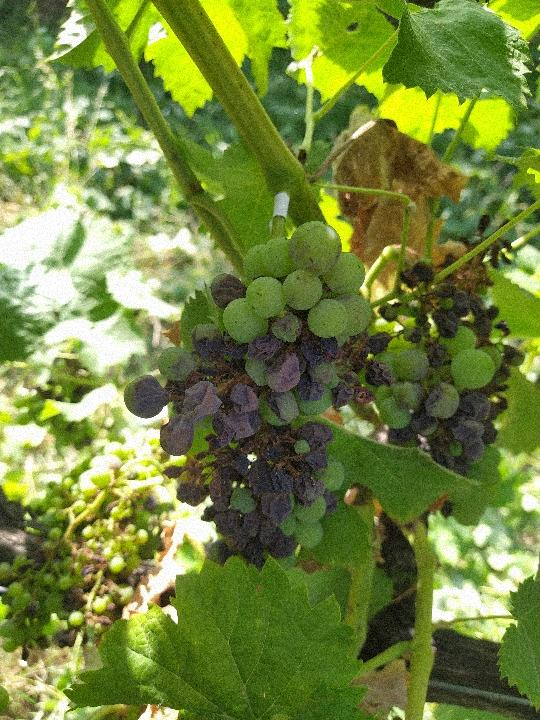grape: (120, 219, 395, 570), (359, 212, 525, 479)
